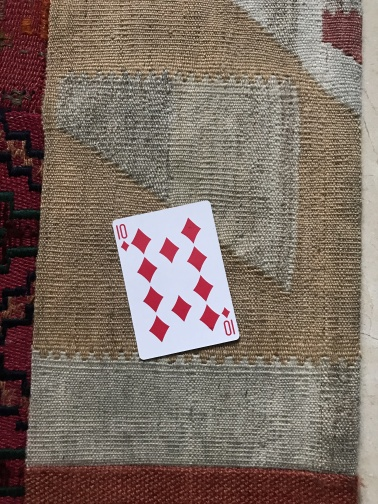ten: (111, 201, 241, 362)
